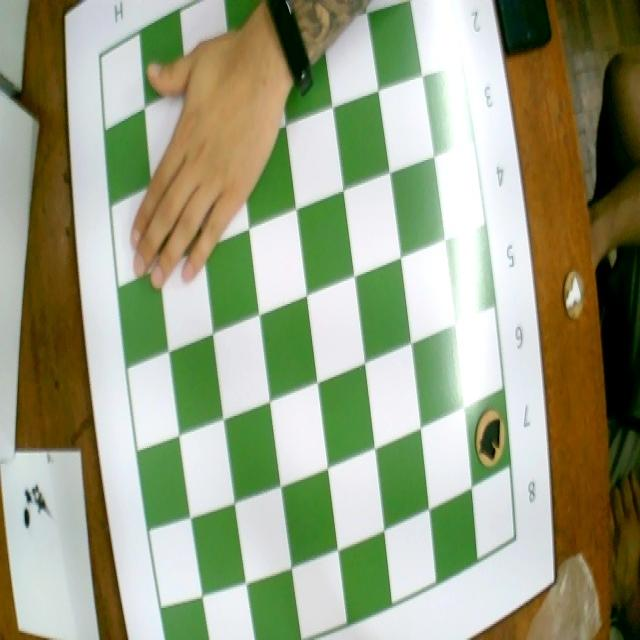chess-pieces: (467, 399, 510, 473)
